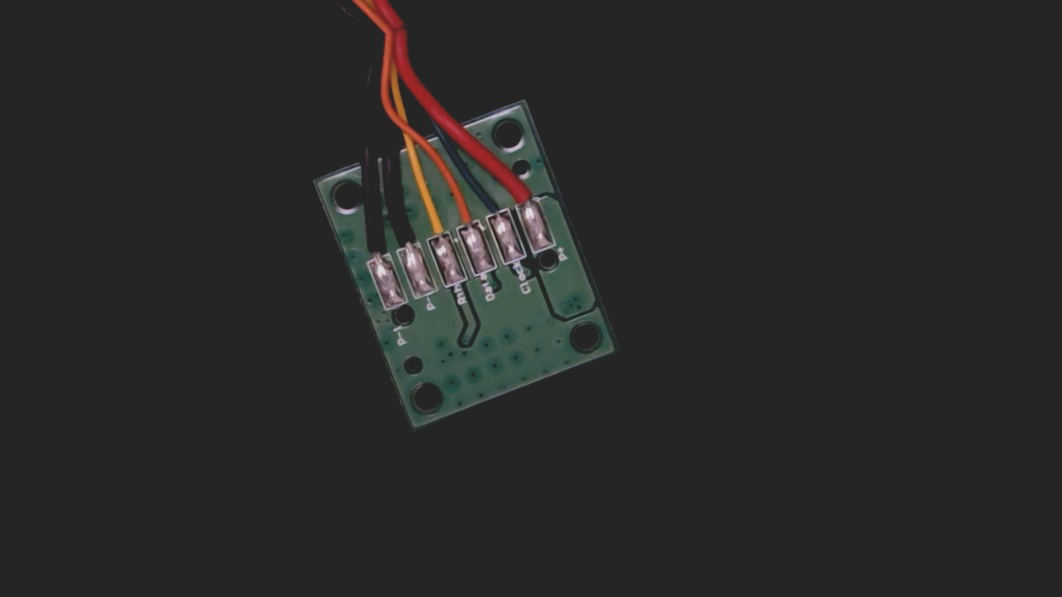Black: (381, 200, 428, 266)
Black1: (349, 217, 394, 278)
Green: (474, 181, 515, 229)
Orange: (441, 176, 486, 242)
Red: (500, 158, 546, 222)
Yellow: (410, 186, 458, 253)
